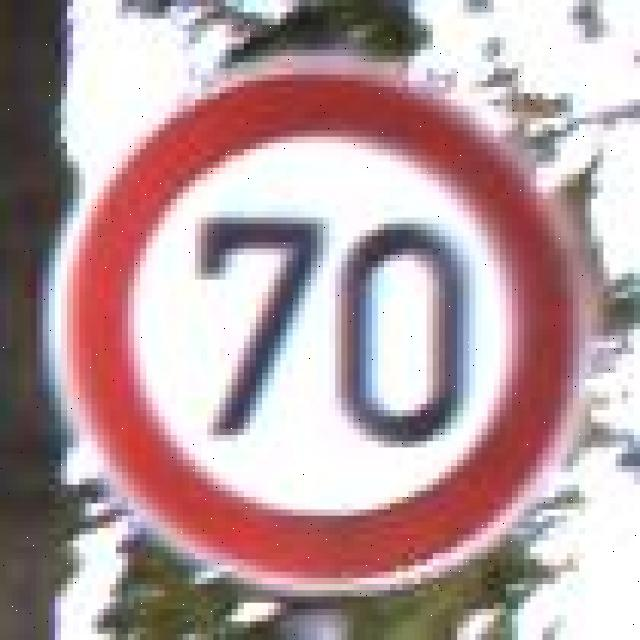speed limit 70: (58, 70, 590, 600)
